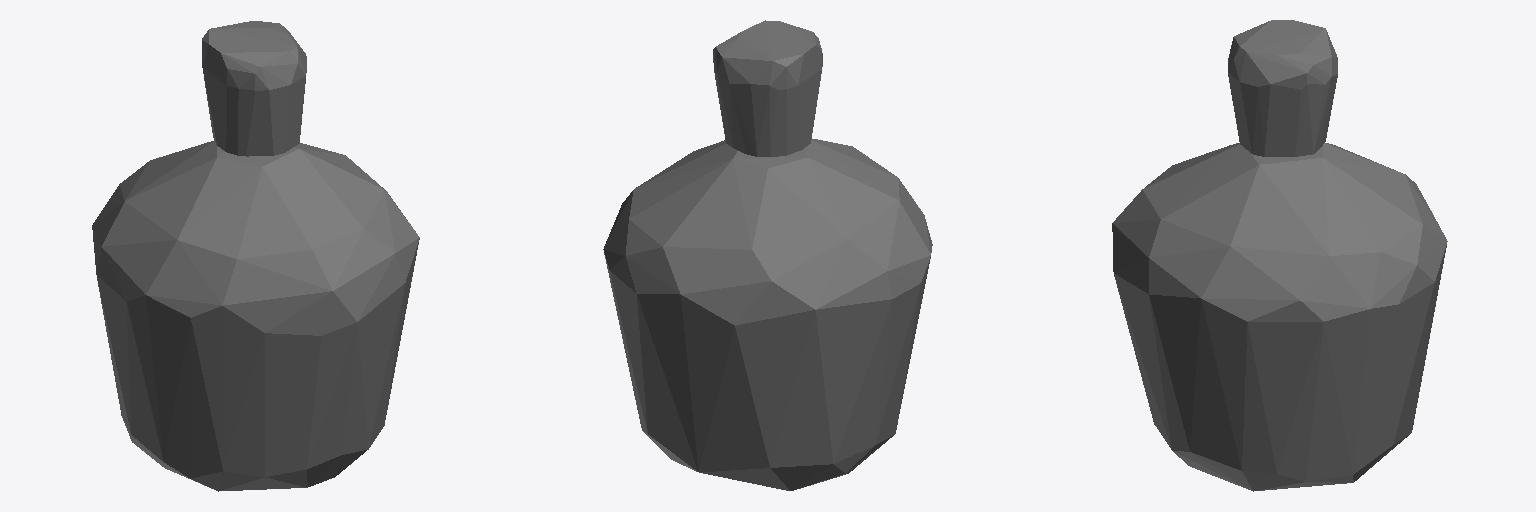
robot.urdf — pitcher_005:
<?xml version="1.0" ?>
<robot name="pitcher_005">
  <material name="color">
    <color rgba=".5 .5 .5 1"/>
  </material>

  <link name="base_link">
    <contact>
      <lateral_friction value="1.0"/>
      <rolling_friction value="0.001"/>
      <spinning_friction value="0.001"/>
      <inertia_scaling value="1.0"/>
    </contact>
    <inertial>
      <origin rpy="0 0 0" xyz="-1.87438e-05 0.00394029 -0.0155139"/>
       <mass value="0.1"/>
       <inertia ixx="1" ixy="0" ixz="0" iyy="1" iyz="0" izz="1"/>
    </inertial>

    <visual>
      <origin rpy="0 0 0" xyz="0 0 0"/>
      <geometry>
        <mesh filename="pitcher_005_vhacd_0_of_2.obj" scale="1 1 1"/>
      </geometry>
      <material name="color"/>
    </visual>
    <visual>
      <origin rpy="0 0 0" xyz="0 0 0"/>
      <geometry>
        <mesh filename="pitcher_005_vhacd_1_of_2.obj" scale="1 1 1"/>
      </geometry>
      <material name="color"/>
    </visual>

    <collision>
      <origin rpy="0 0 0" xyz="0 0 0"/>
      <geometry>
        <mesh filename="pitcher_005_vhacd_0_of_2.obj" scale="1 1 1"/>
      </geometry>
    </collision>
    <collision>
      <origin rpy="0 0 0" xyz="0 0 0"/>
      <geometry>
        <mesh filename="pitcher_005_vhacd_1_of_2.obj" scale="1 1 1"/>
      </geometry>
    </collision>

  </link>
</robot>

--- Facts derived from the render (not from the file) ---
The picture shows the robot from 3 angles, left to right: view 1: azimuth 30°, elevation 25°; view 2: azimuth 150°, elevation 25°; view 3: azimuth 270°, elevation 25°; orthographic projection.
Robot: pitcher_005 — 1 links, 0 joints (none); root link base_link; default pose: all joints at 0.
Visible links, largest first — view 1: base_link; view 2: base_link; view 3: base_link.
Boxes of the visible links, x1,y1,x2,y2 form: base_link: (92, 21, 419, 491); base_link: (603, 20, 932, 490); base_link: (1112, 20, 1447, 491).
Bounding box of the posed robot: 0.1371 × 0.1421 × 0.1924 m (x, y, z).
Meshes: 2 distinct files referenced, 2 mesh visuals loaded (2 OBJ).